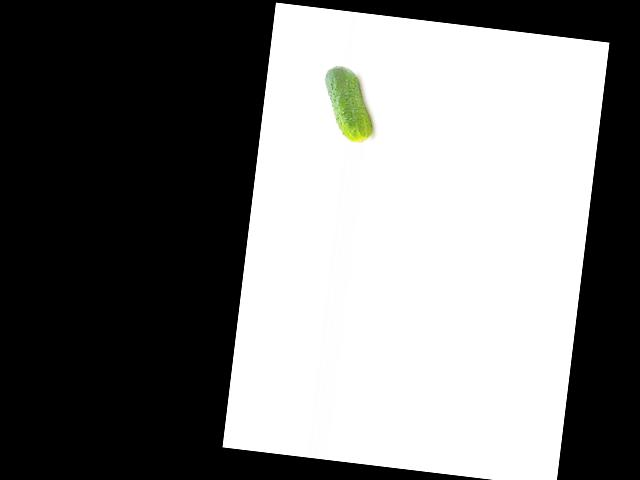cucumber: (318, 64, 378, 144)
